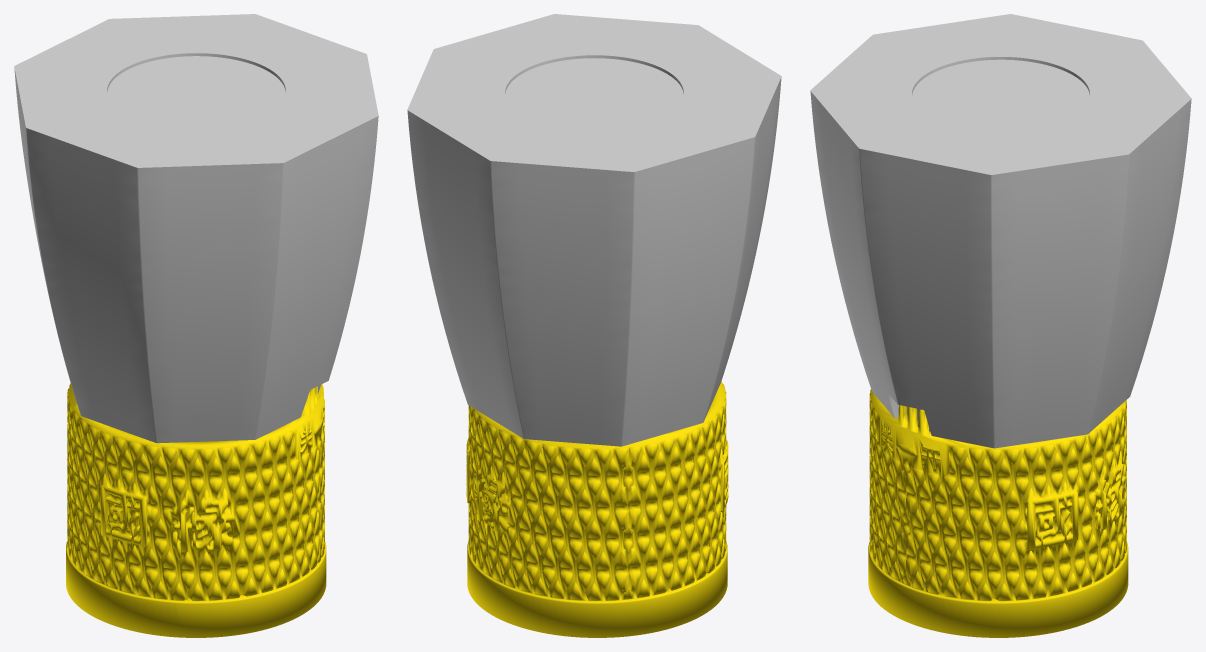
File: cap2.glb
The picture shows the model from 3 angles, left to right: view 1: azimuth 30°, elevation 25°; view 2: azimuth 150°, elevation 25°; view 3: azimuth 270°, elevation 25°; orthographic projection.
Visible parts, largest first — view 1: cap-t, cap-b; view 2: cap-t, cap-b; view 3: cap-t, cap-b.
Part boxes in pixels (x1,y1,x2,y2): cap-t: (14,14,378,443); cap-b: (66,383,326,637); cap-t: (407,14,781,446); cap-b: (466,381,728,637); cap-t: (810,14,1191,448); cap-b: (868,389,1128,637).
Size of the model in its own units: 48.6 by 68.82 by 48.6.
